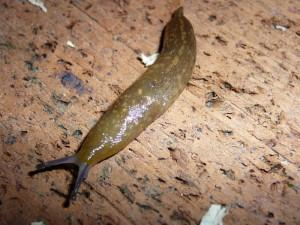slug: (25, 8, 224, 200)
